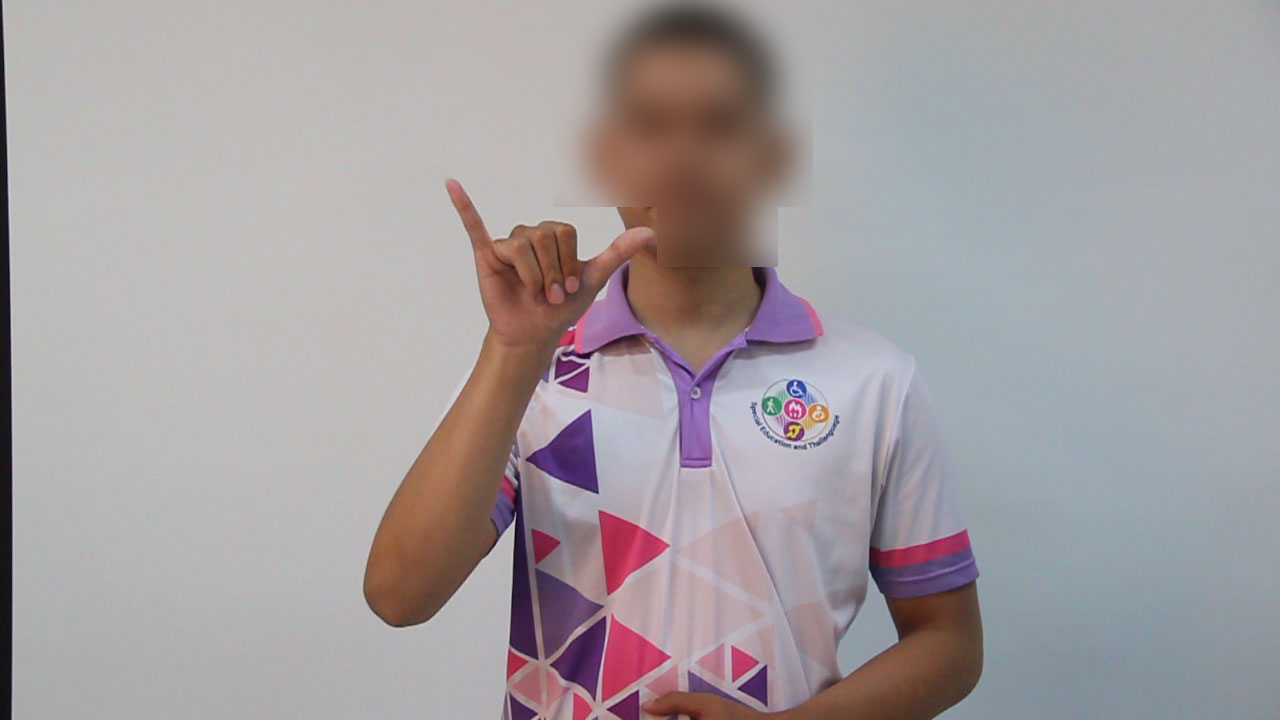yor: (429, 164, 660, 358)
